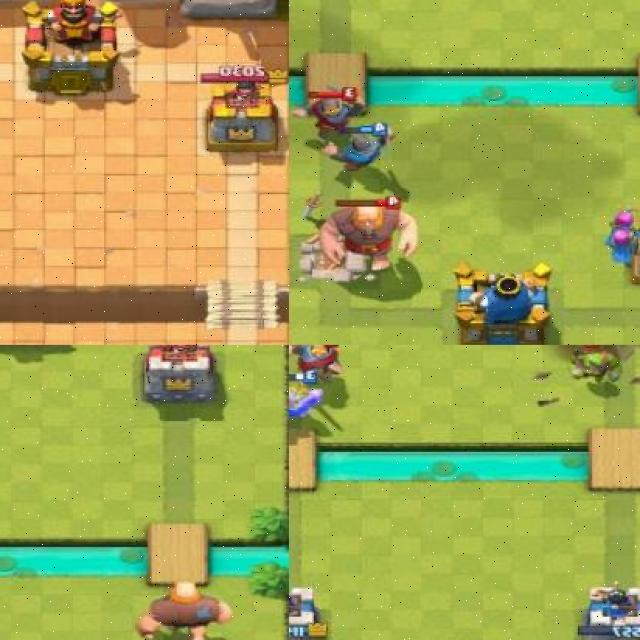Enemy-Brawler: (567, 345, 623, 388)
Enemy-Giant: (317, 195, 422, 274)
Enemy-Knight: (289, 81, 368, 135), (289, 345, 346, 385)
Player-Archer: (601, 204, 640, 250), (602, 222, 640, 265)
Player-Giant: (134, 579, 236, 640)
Player-Knight: (319, 120, 397, 174), (289, 368, 326, 424)
